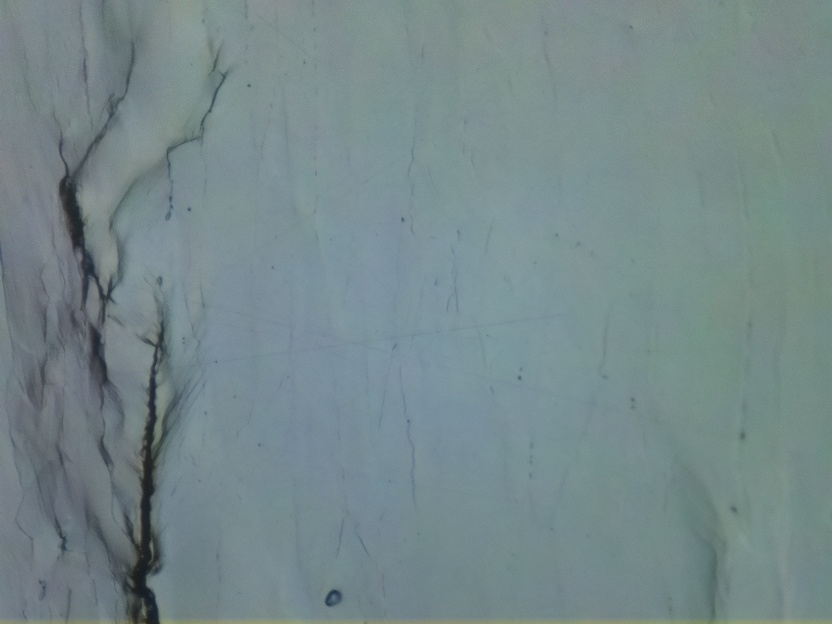crack: (54, 33, 134, 410), (123, 304, 182, 624), (162, 42, 234, 228)
